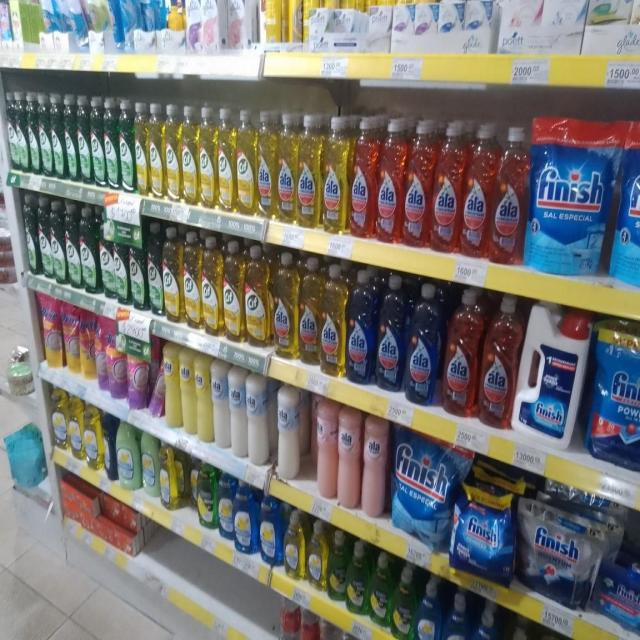ala_conc_amarillo: (322, 115, 348, 234), (321, 262, 346, 378), (273, 250, 298, 360), (298, 113, 321, 230), (298, 255, 320, 368), (277, 112, 297, 224), (257, 112, 276, 220)
ala_conc_azul: (590, 325, 640, 471), (406, 282, 441, 405), (376, 273, 405, 393), (347, 268, 375, 386)
ala_conc_rojo: (492, 124, 528, 265), (480, 295, 518, 428), (443, 288, 479, 418), (463, 123, 493, 259), (432, 121, 462, 254), (404, 118, 432, 249), (377, 117, 403, 245), (350, 116, 376, 240)
ala_crem_amarillo: (163, 342, 179, 430), (180, 348, 194, 436)
ala_crem_blanco: (276, 381, 302, 482), (229, 364, 246, 459)
ala_crem_rosado: (362, 414, 389, 519), (337, 406, 361, 510), (314, 395, 336, 502)
cif_conc_bot_amarilla: (245, 243, 271, 348), (223, 239, 244, 344), (236, 108, 256, 217), (202, 235, 222, 336), (162, 226, 182, 324), (218, 106, 235, 214), (182, 230, 200, 331), (199, 104, 216, 210), (181, 104, 198, 206), (164, 103, 180, 203), (148, 102, 164, 200), (134, 100, 148, 197)
cif_conc_botella_verde: (80, 204, 98, 295), (129, 218, 146, 312), (118, 98, 134, 194), (147, 222, 162, 317), (104, 97, 118, 191), (90, 96, 104, 188), (114, 214, 128, 305), (99, 210, 113, 300), (65, 202, 79, 289), (77, 95, 90, 185), (38, 196, 51, 281), (51, 200, 64, 284), (64, 94, 76, 182), (52, 93, 64, 180), (38, 93, 50, 177), (28, 92, 38, 175)
magistral_con_amarillo: (284, 509, 305, 581), (307, 520, 327, 592), (160, 442, 181, 510), (84, 402, 102, 471), (49, 388, 68, 451), (68, 395, 84, 461)
magistral_con_azul: (234, 480, 258, 556), (259, 492, 282, 566), (415, 578, 439, 640), (440, 590, 468, 640), (467, 605, 496, 640)
magistral_con_crema: (116, 420, 139, 491)
